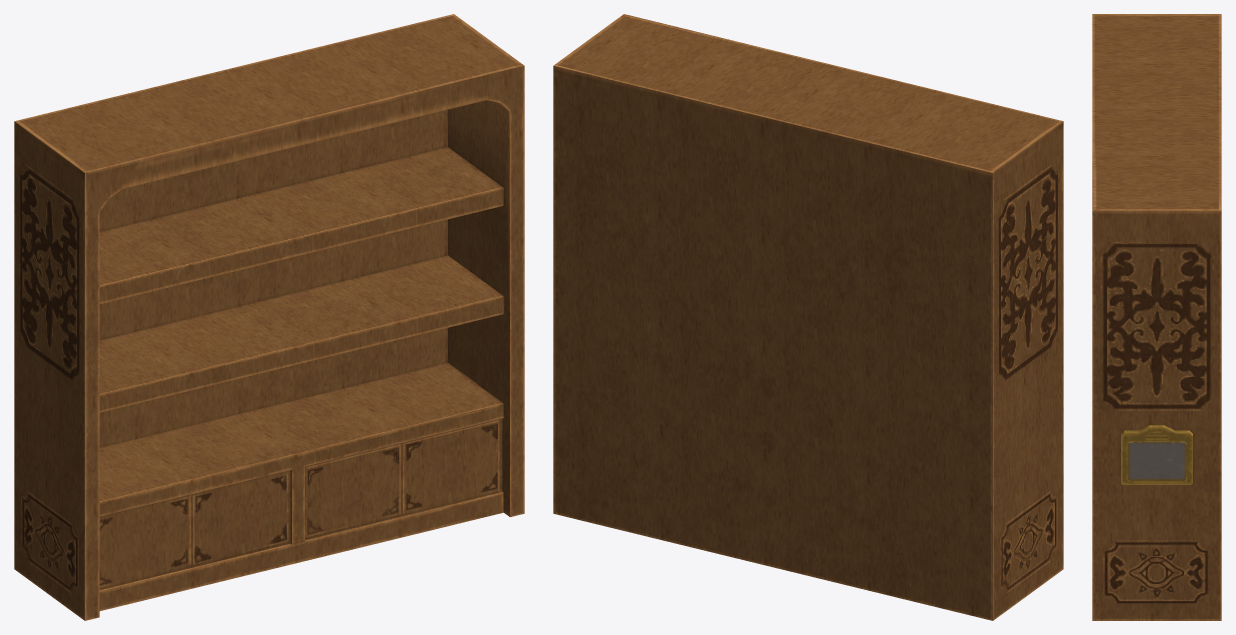
Rendered from sb_obj_indoor048_BookShelf.fbx.
The picture shows the model from 3 angles, left to right: view 1: azimuth 30°, elevation 25°; view 2: azimuth 150°, elevation 25°; view 3: azimuth 270°, elevation 25°; orthographic projection. The views are drawn at different scales.
Parts seen in each view (by area): view 1: sb_obj_indoor048_BookShelf; view 2: sb_obj_indoor048_BookShelf; view 3: sb_obj_indoor048_BookShelf.
Part boxes in pixels (x1,y1,x2,y2): sb_obj_indoor048_BookShelf: (14,14,524,620); sb_obj_indoor048_BookShelf: (553,14,1063,620); sb_obj_indoor048_BookShelf: (1092,14,1221,620).
Size of the model in its own units: 2.35 by 2.27 by 0.6488.
